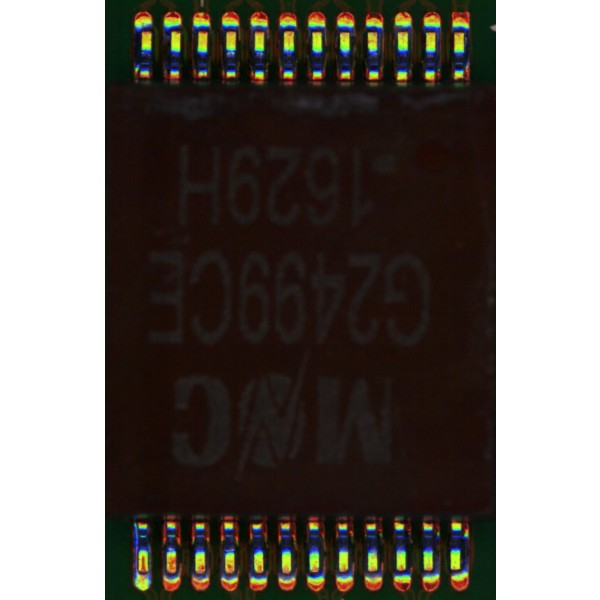Bad_podu: (138, 567, 148, 583)
Bad_qiaojiao: (134, 523, 139, 571)
